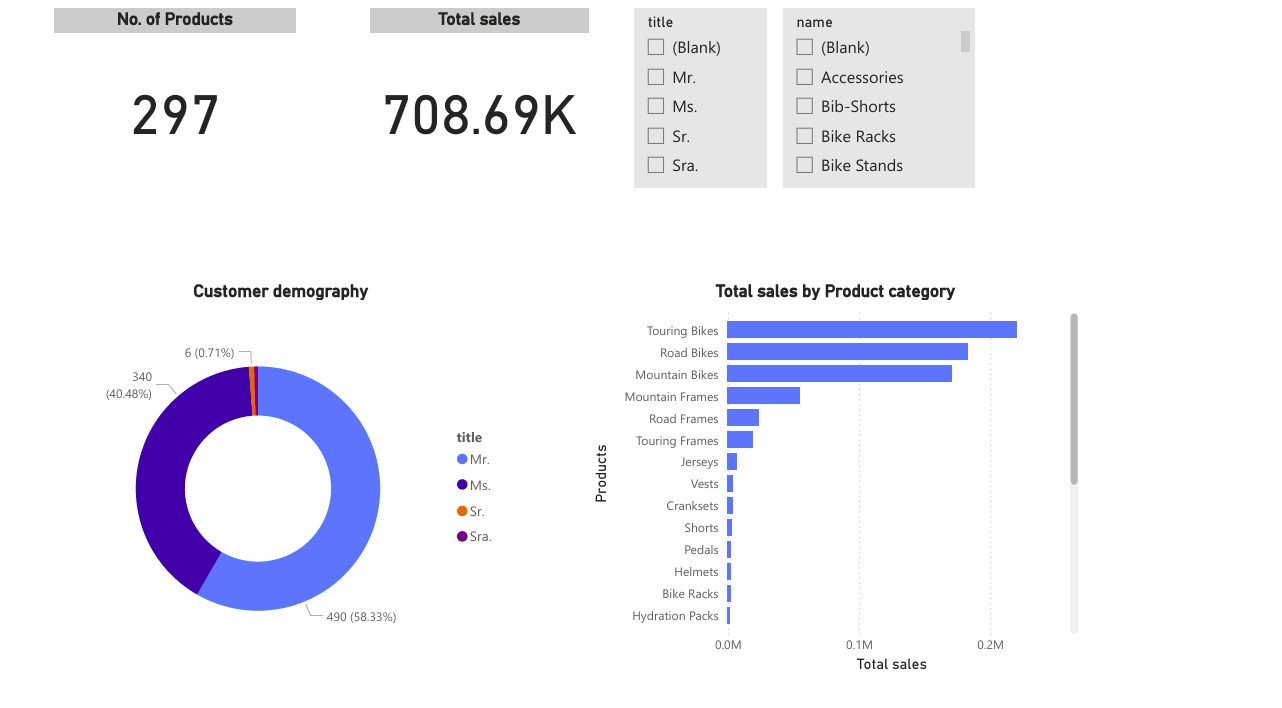

Layout of this report page (visuals, bound fields, positions):
{"tool":"powerbi","page":{"name":"Page 1","canvas":[1280,720],"ordinal":0},"visuals":[{"type":"card","title":"No. of Products","fields":{"Values":["CountNonNull(Product.productid)"]},"box":[70.7,13,236.6,176],"z":0},{"type":"card","title":"Total sales","fields":{"Values":["Sum(SalesOrderDetail.line_total)"]},"box":[380.9,13,213.5,176],"z":1},{"type":"donutChart","title":"Customer demography","fields":{"Y":["CountNonNull(Customer.title)"],"Series":["Customer.title"]},"box":[70.7,279.9,444.4,389.5],"z":2},{"type":"slicer","fields":{"Values":["Customer.title"]},"box":[639.5,13.5,129.6,176.1],"z":3},{"type":"slicer","fields":{"Values":["ProductCategory.name"]},"box":[786.3,13,187.6,176],"z":4},{"type":"clusteredBarChart","title":"Total sales by Product category","fields":{"Category":["ProductCategory.name"],"Y":["Sum(SalesOrderDetail.line_total)"]},"box":[594.4,279.9,486.2,389.5],"z":5}]}

Visuals, with their boxes in screenshot pixels (x1, y1, x2, y2), scaled from the page's 1280x720 canvas onto the 1282x708 screenshot:
"No. of Products" card: 71, 13, 308, 186
"Total sales" card: 381, 13, 595, 186
"Customer demography" donutChart: 71, 275, 516, 658
slicer - Customer.title: 640, 13, 770, 186
slicer - ProductCategory.name: 788, 13, 975, 186
"Total sales by Product category" clusteredBarChart: 595, 275, 1082, 658
